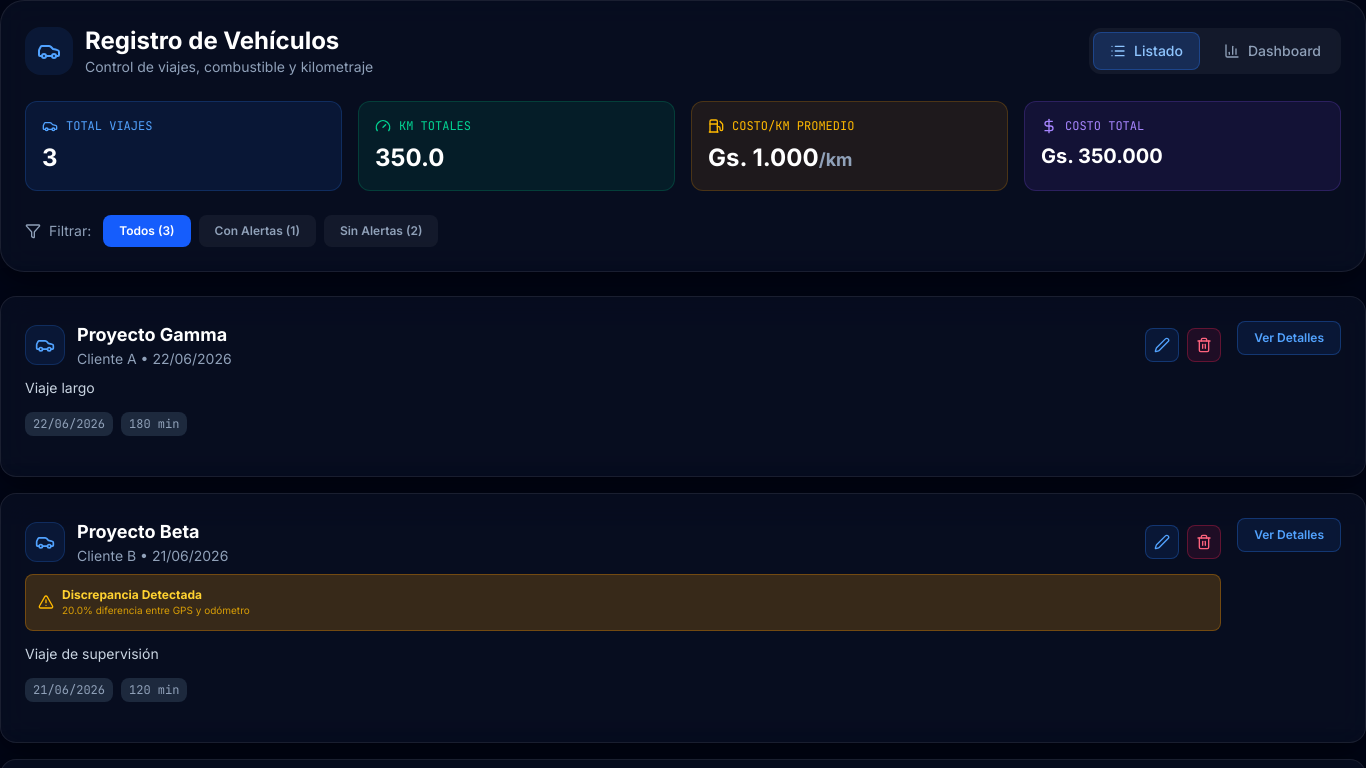
Test: VehiculosAdminView › Filters › filters by "Sin Alertas"
The image size is (1366, 768).
Step 1. Click the button "Sin Alertas (2)" → (381, 231), box 324,215 -> 438,247
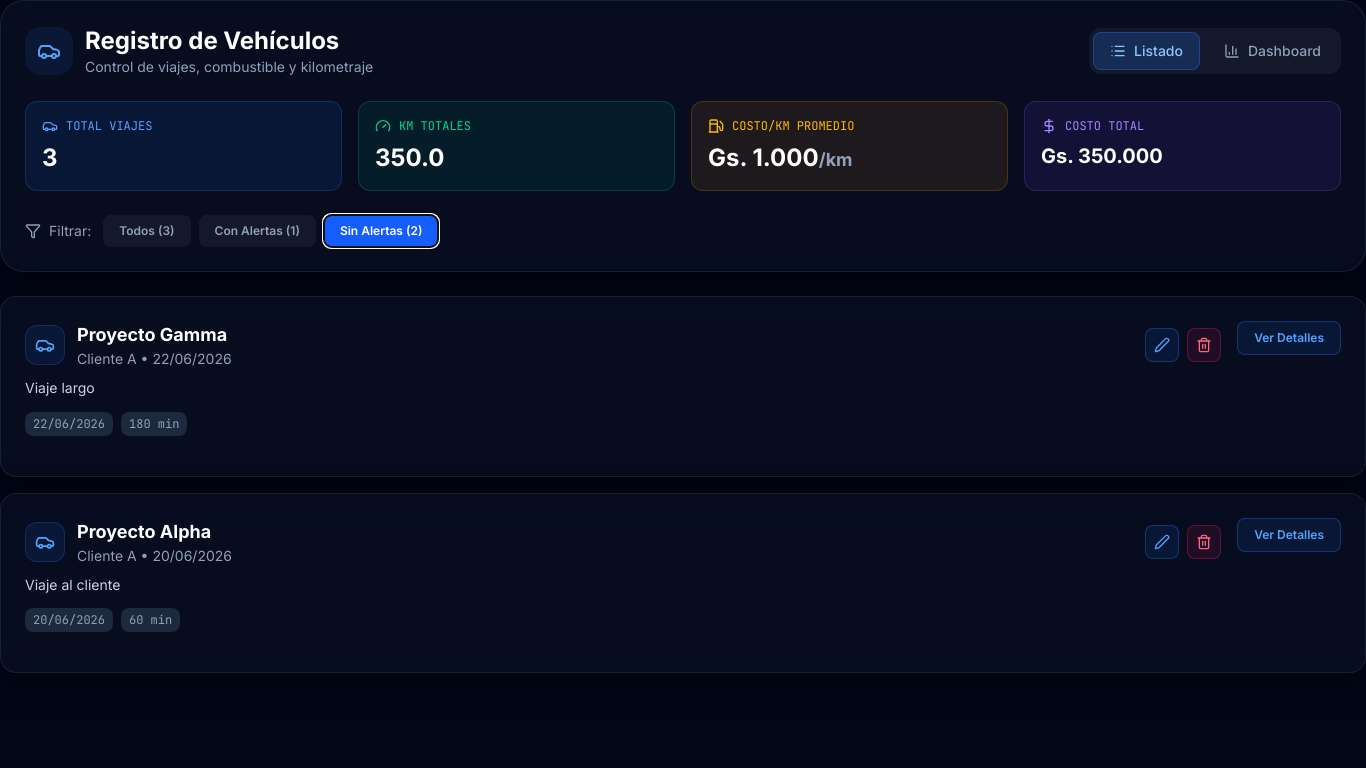
Expected: the heading "Proyecto Alpha" is shown, 77,521 -> 211,542
Now the heading "Proyecto Beta" is gone
